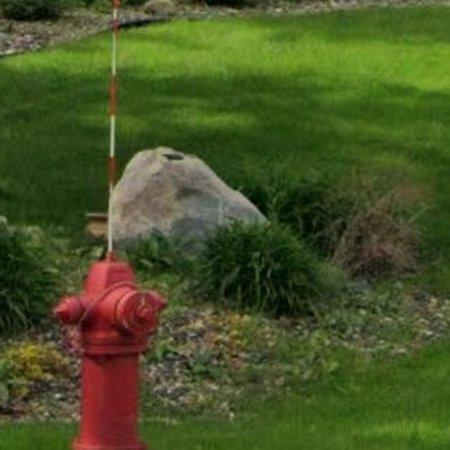a fire hydrant: (53, 256, 166, 450)
